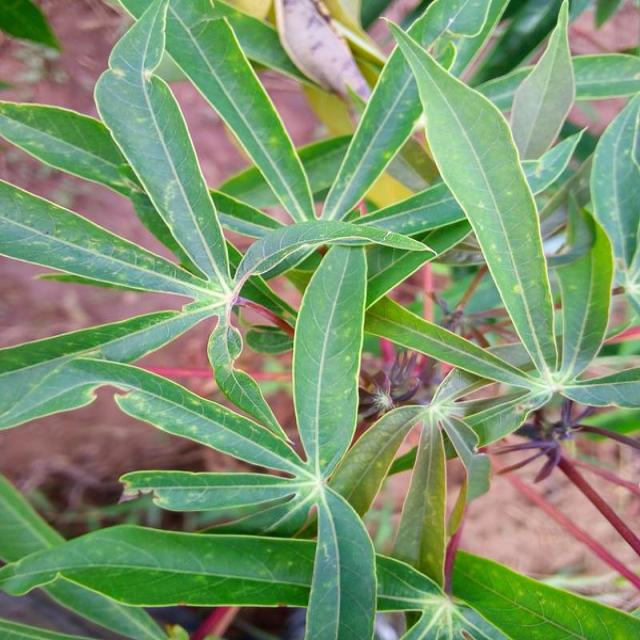cassava leaf: (2, 0, 640, 637), (382, 14, 560, 380)
